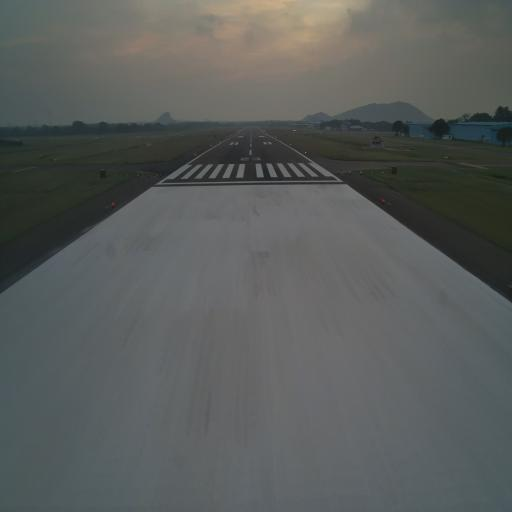on: (380, 196, 386, 204), (111, 201, 115, 207)
